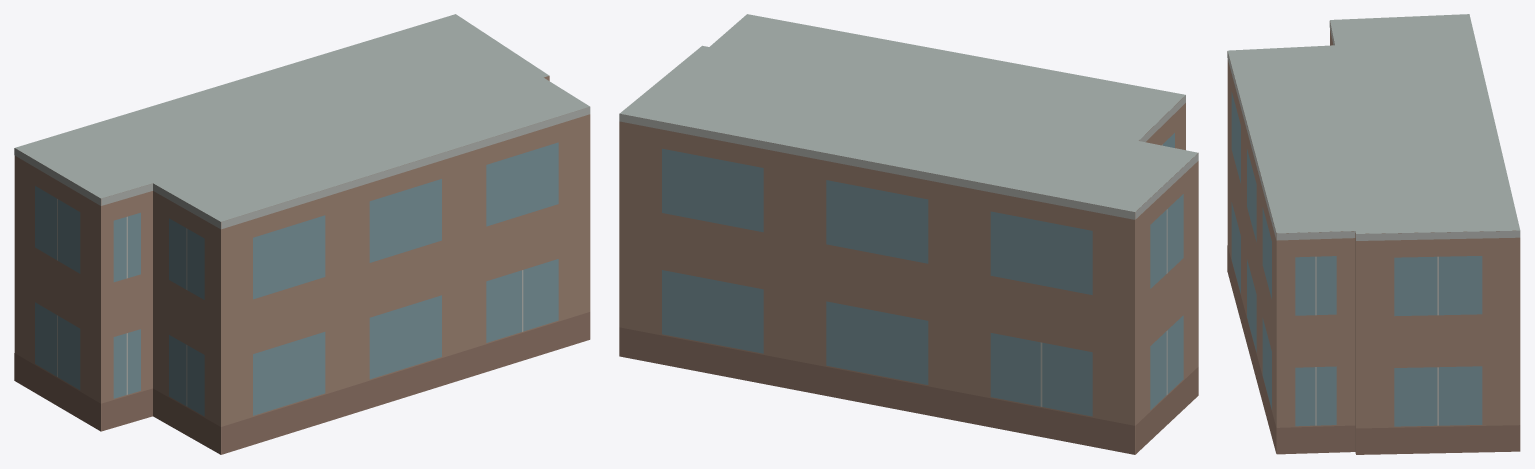
Rendered from survey-upis-32962368.glb.
3 renders of one model, left to right at view 1: azimuth 30°, elevation 25°; view 2: azimuth 150°, elevation 25°; view 3: azimuth 270°, elevation 25°, orthographic. The views are drawn at different scales.
Visible parts, largest first — view 1: survey-upis-32962368.tmp; view 2: survey-upis-32962368.tmp; view 3: survey-upis-32962368.tmp.
Boxes of the visible parts, x1,y1,x2,y2 form: survey-upis-32962368.tmp: (14,14,590,454); survey-upis-32962368.tmp: (619,14,1198,454); survey-upis-32962368.tmp: (1227,14,1520,454).
Bounding box in the file's own units: 16.24 × 7.6 × 9.14.
